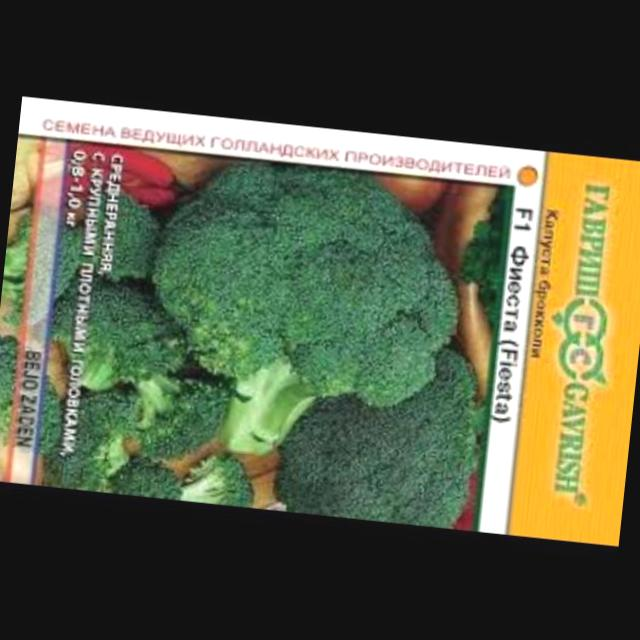Broccoli: (134, 134, 473, 470), (13, 263, 225, 500), (306, 344, 498, 529), (57, 170, 176, 290)
